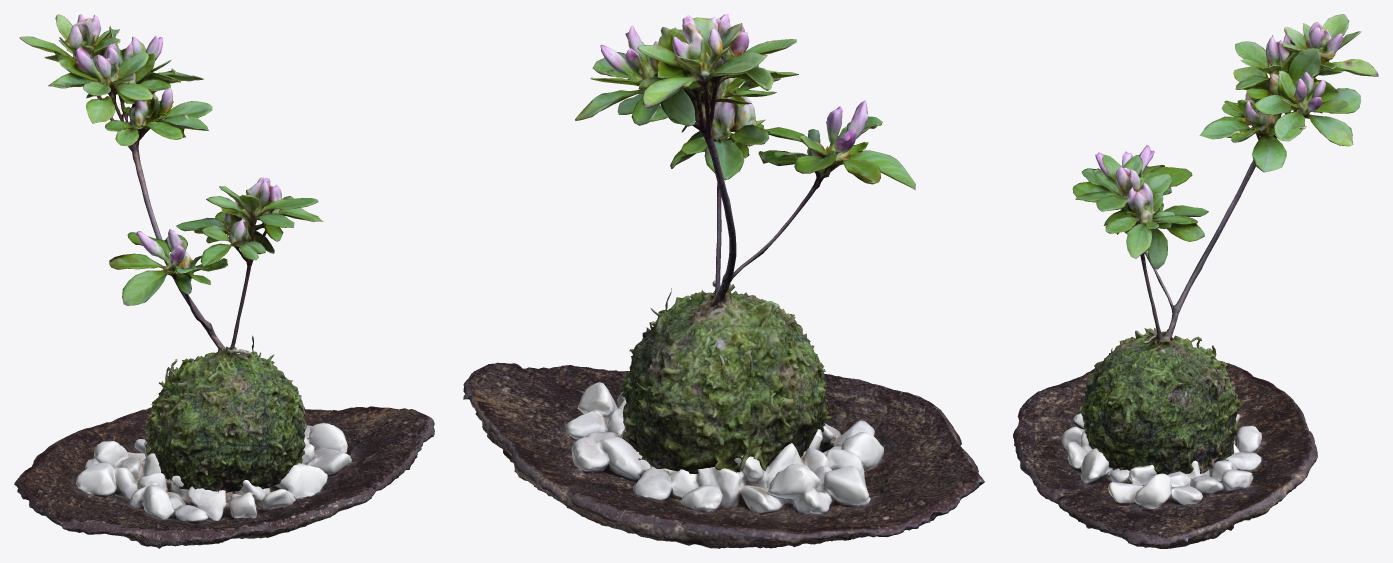
3 renders of one model, left to right at view 1: azimuth 30°, elevation 25°; view 2: azimuth 150°, elevation 25°; view 3: azimuth 270°, elevation 25°, orthographic. The views are drawn at different scales.
Visible parts, largest first — view 1: 30K_1_Mat_0; view 2: 30K_1_Mat_0; view 3: 30K_1_Mat_0.
Part boxes in pixels (x1,y1,x2,y2): 30K_1_Mat_0: (14, 14, 434, 548); 30K_1_Mat_0: (463, 14, 984, 548); 30K_1_Mat_0: (1013, 14, 1378, 548).
Size of the model in its own units: 2.58 by 2.82 by 2.15.
Materials: 2 (2 with a texture image).
